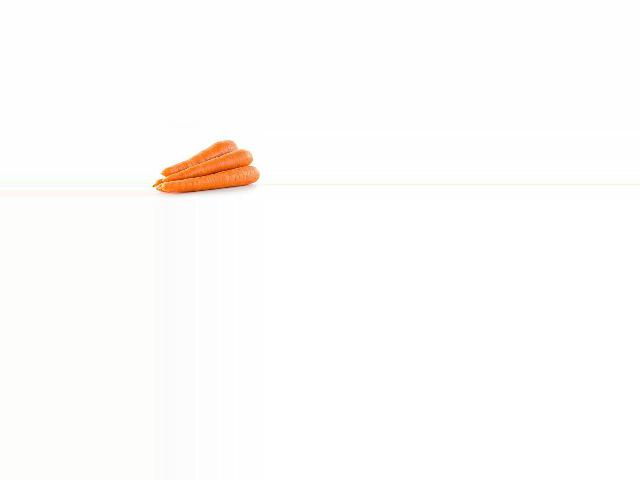carrot: (157, 165, 263, 198)
